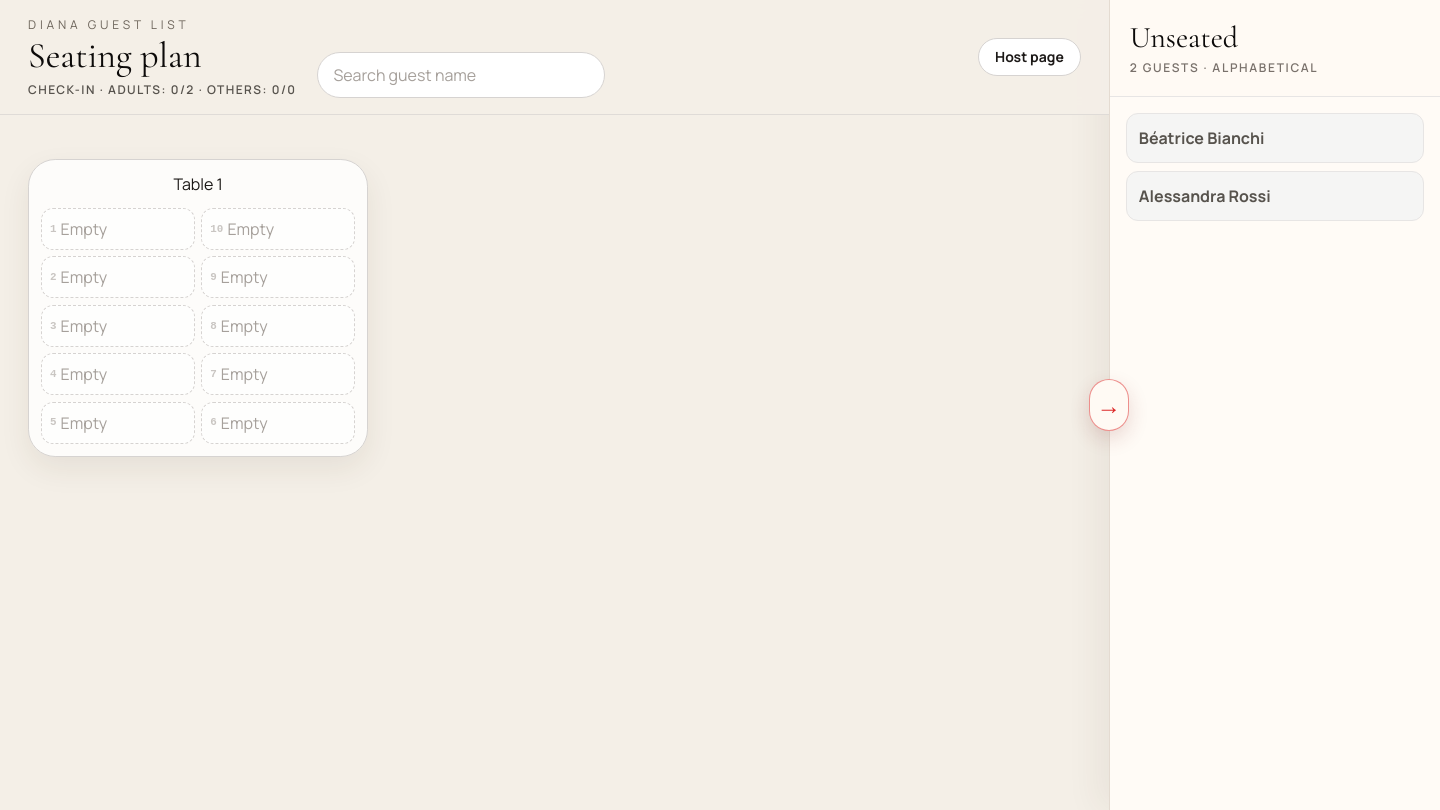
SeatingPlanner › filters the alphabetical unseated list from the top search field
This screenshot has width=1440, height=810.
Type "beatrice" into the search field named "Search unseated guests".
click(460, 75); type("beatrice")  # box x1=316 y1=52 x2=604 y2=98
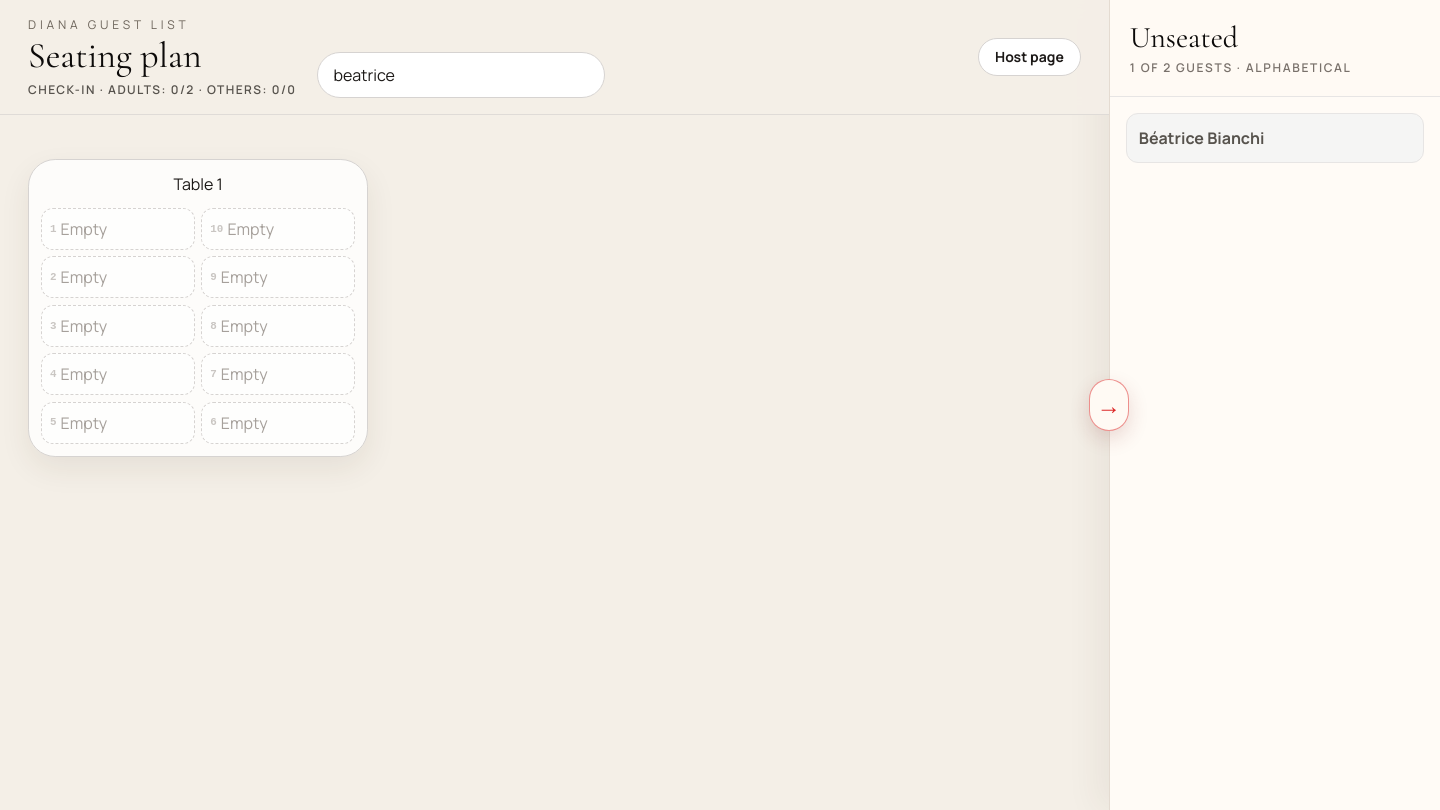
Expected: the text "Béatrice Bianchi" is shown, x1=1139 y1=127 x2=1265 y2=149
Expected: the button "Alessandra Rossi" is gone
Expected: the text "1 of 2 guests · alphabetical" is shown, x1=1130 y1=59 x2=1352 y2=76
